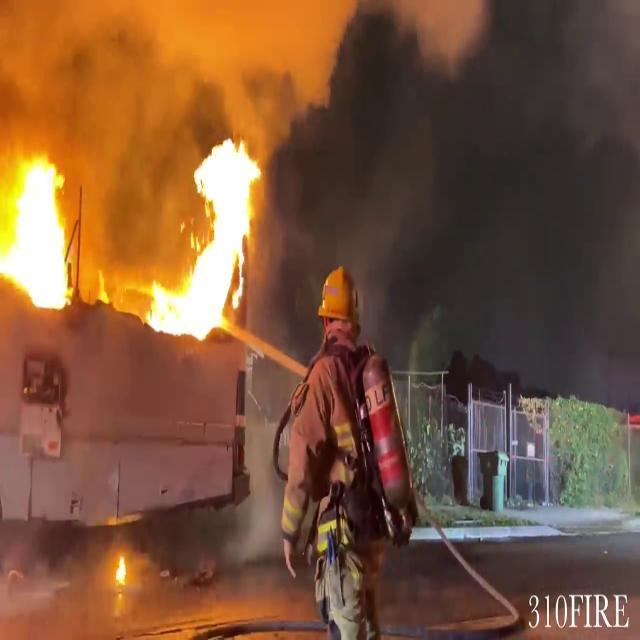Fire: (142, 129, 264, 342), (0, 154, 86, 313)
